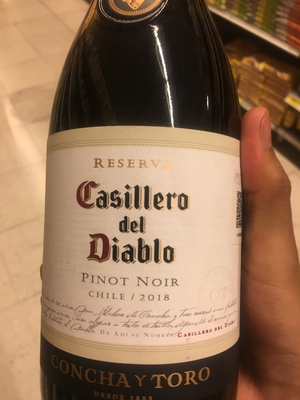casillero del diablo pinot noir: (38, 17, 249, 400)
